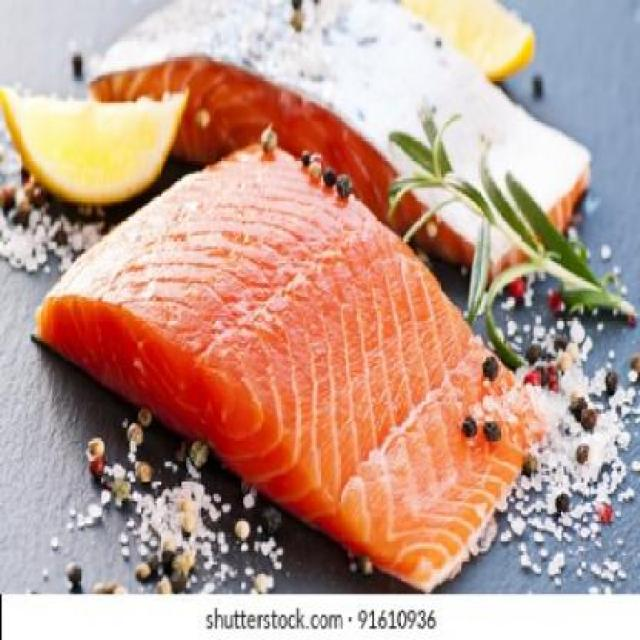salmon: (32, 146, 581, 592)
